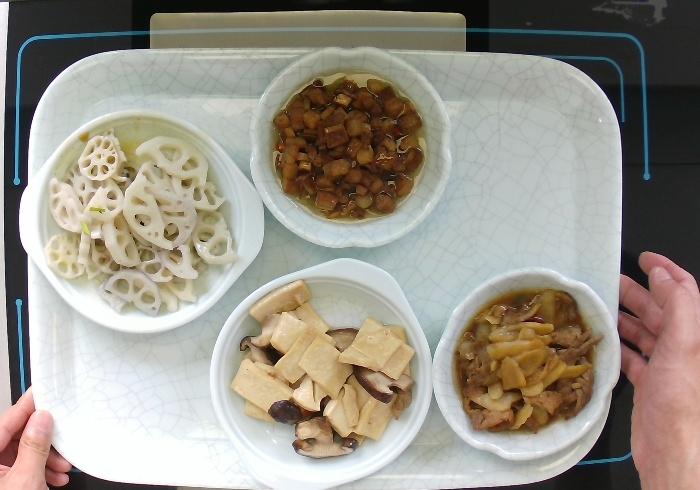JYsf-Ao_Yuan_Wan: (245, 42, 457, 252), (428, 263, 625, 466)
JYsf-Shuang_Er_Pan: (12, 105, 269, 338), (205, 255, 436, 490)
